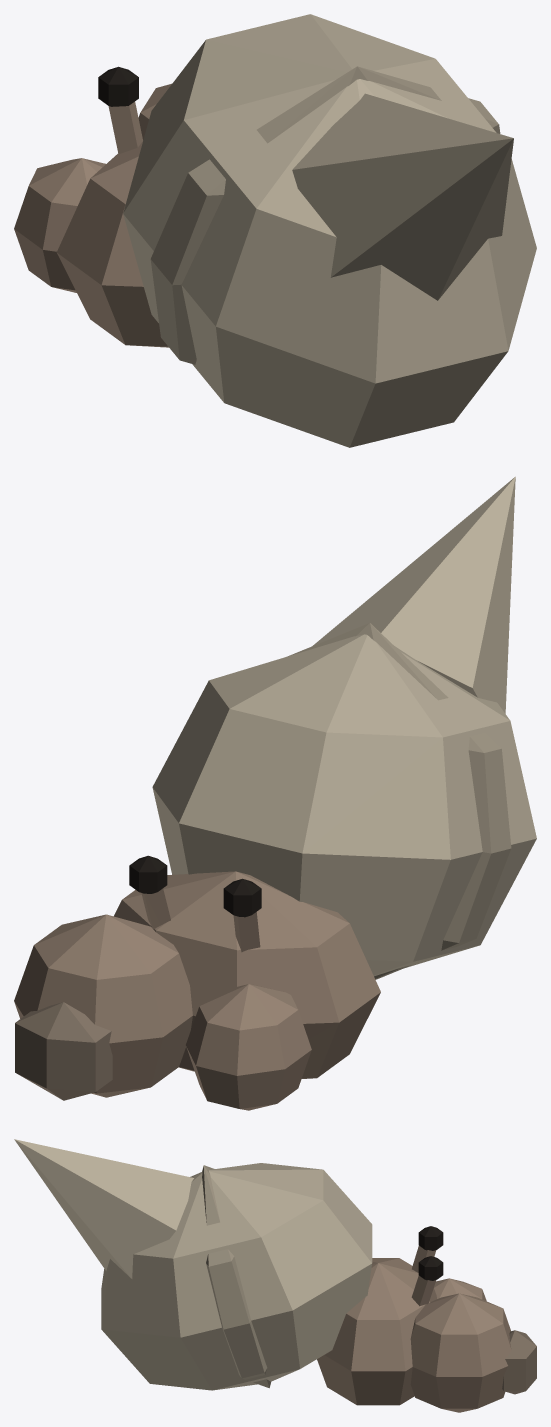
Rendered from animal_hermitcrab_bones.obj.
3 views of the same model, one above another, from view 1: azimuth 30°, elevation 25°; view 2: azimuth 150°, elevation 25°; view 3: azimuth 270°, elevation 25° (orthographic). The views are drawn at different scales.
Size of the model in its own units: 0.1978 by 0.2423 by 0.4392.
